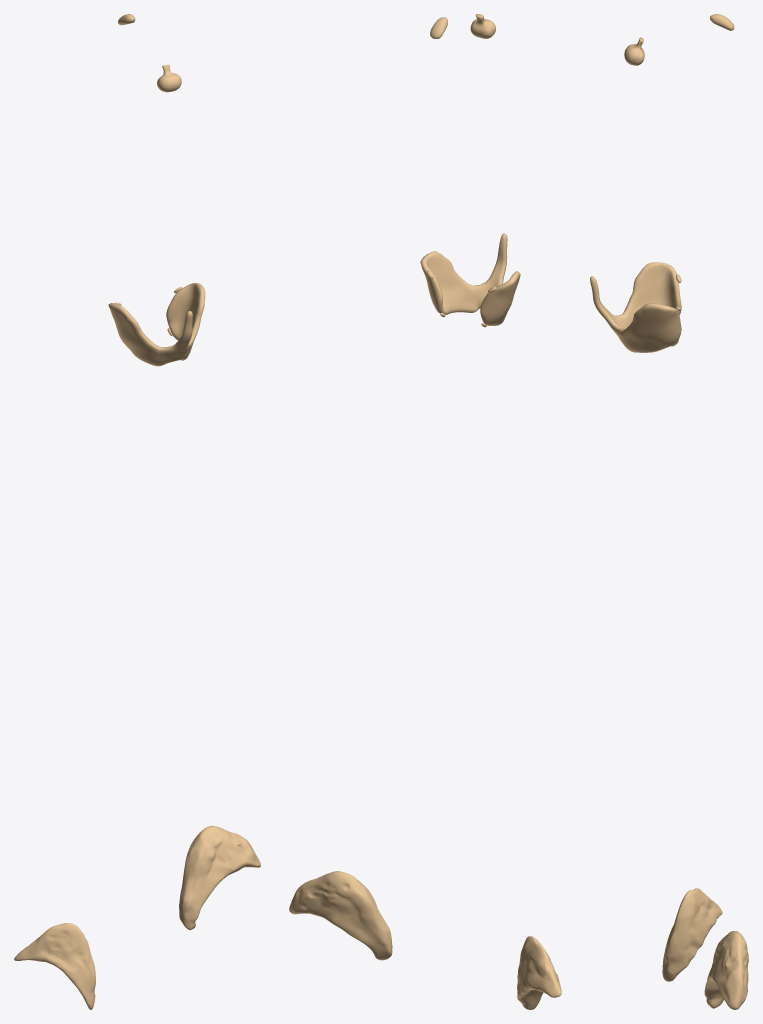
Rendered from endocrine.glb.
3 views of the same model, side by side, from view 1: azimuth 30°, elevation 25°; view 2: azimuth 150°, elevation 25°; view 3: azimuth 270°, elevation 25° (orthographic). The views are drawn at different scales.
Visible parts, largest first — view 1: END.suprarenal_gland.L, END.thyroid_gland.C, END.suprarenal_gland.R; view 2: END.suprarenal_gland.L, END.thyroid_gland.C, END.suprarenal_gland.R; view 3: END.thyroid_gland.C, END.suprarenal_gland.R, END.suprarenal_gland.L.
Part boxes in pixels (x1,y1,x2,y2): END.suprarenal_gland.L: (179,825,260,929); END.thyroid_gland.C: (108,283,205,366); END.suprarenal_gland.R: (14,923,95,1009); END.suprarenal_gland.L: (289,871,392,960); END.thyroid_gland.C: (420,233,520,325); END.suprarenal_gland.R: (517,936,561,1009); END.thyroid_gland.C: (590,262,681,352); END.suprarenal_gland.R: (662,888,722,981); END.suprarenal_gland.L: (704,931,748,1009).
Size of the model in its own units: 0.138 by 0.4994 by 0.072.
